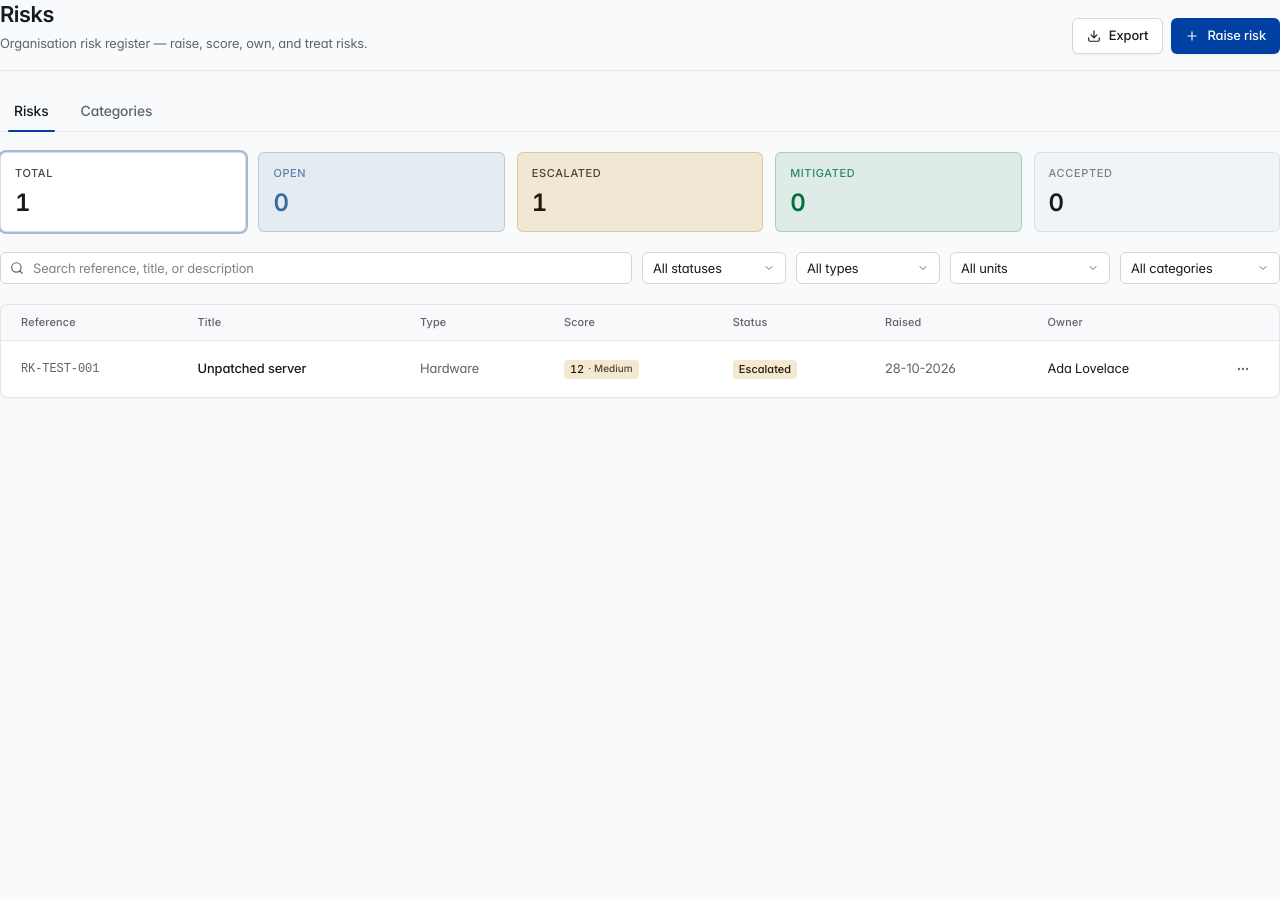
RisksListPage › shows lifecycle timeline and linked controls panels
Click the text "Unpatched server".
click(293, 369)  # box [182,341,404,397]
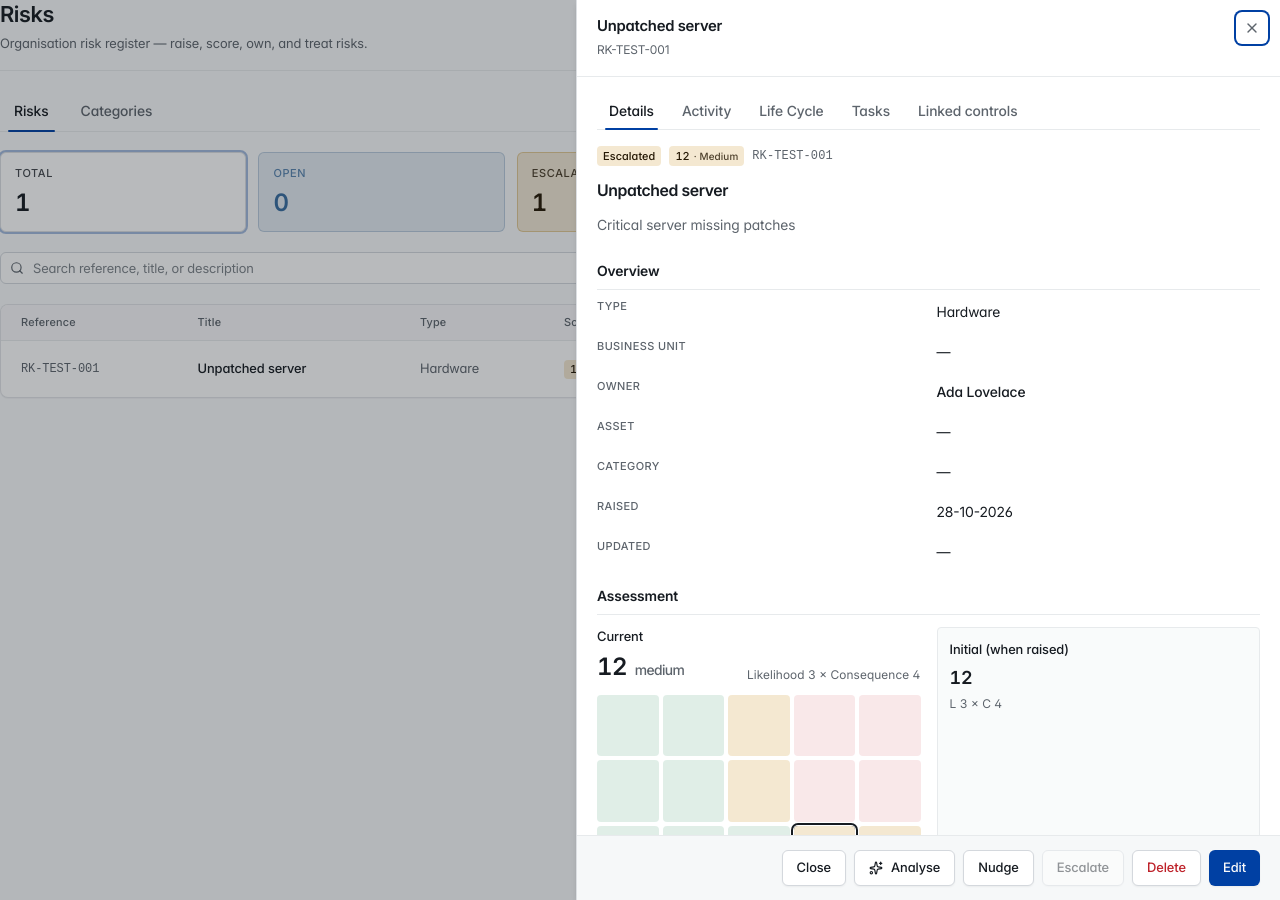
Click the tab "Life Cycle".
click(792, 111)  # box [747,93,836,129]
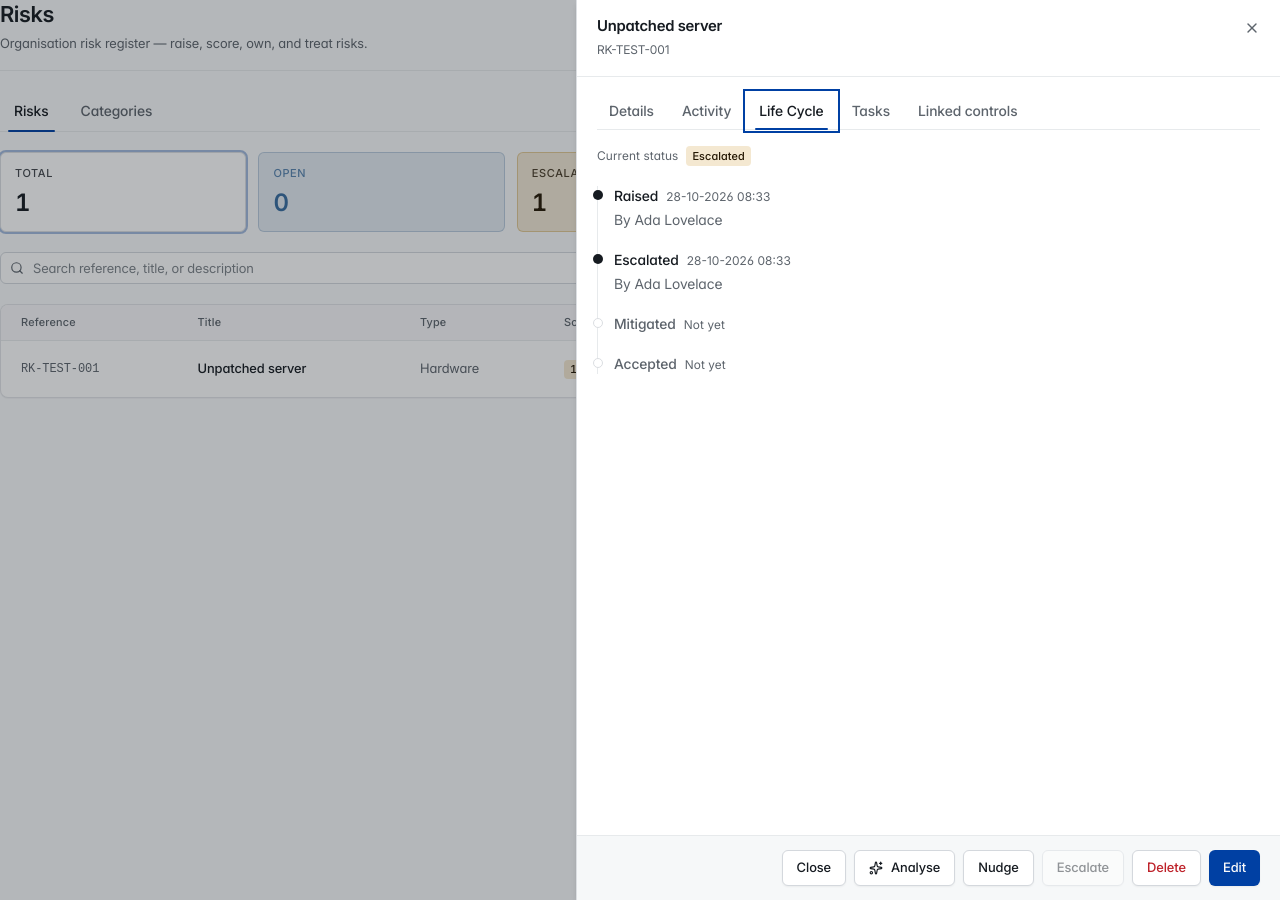
Expected: the 2nd text "Escalated" is shown, [532,166,601,180]
Expected: the text "Current status" is shown, [597,148,678,164]
Expected: the 1st text "Not yet" is shown, [684,317,725,333]
Click the tab "Linked controls".
click(968, 111)  # box [906,93,1029,129]
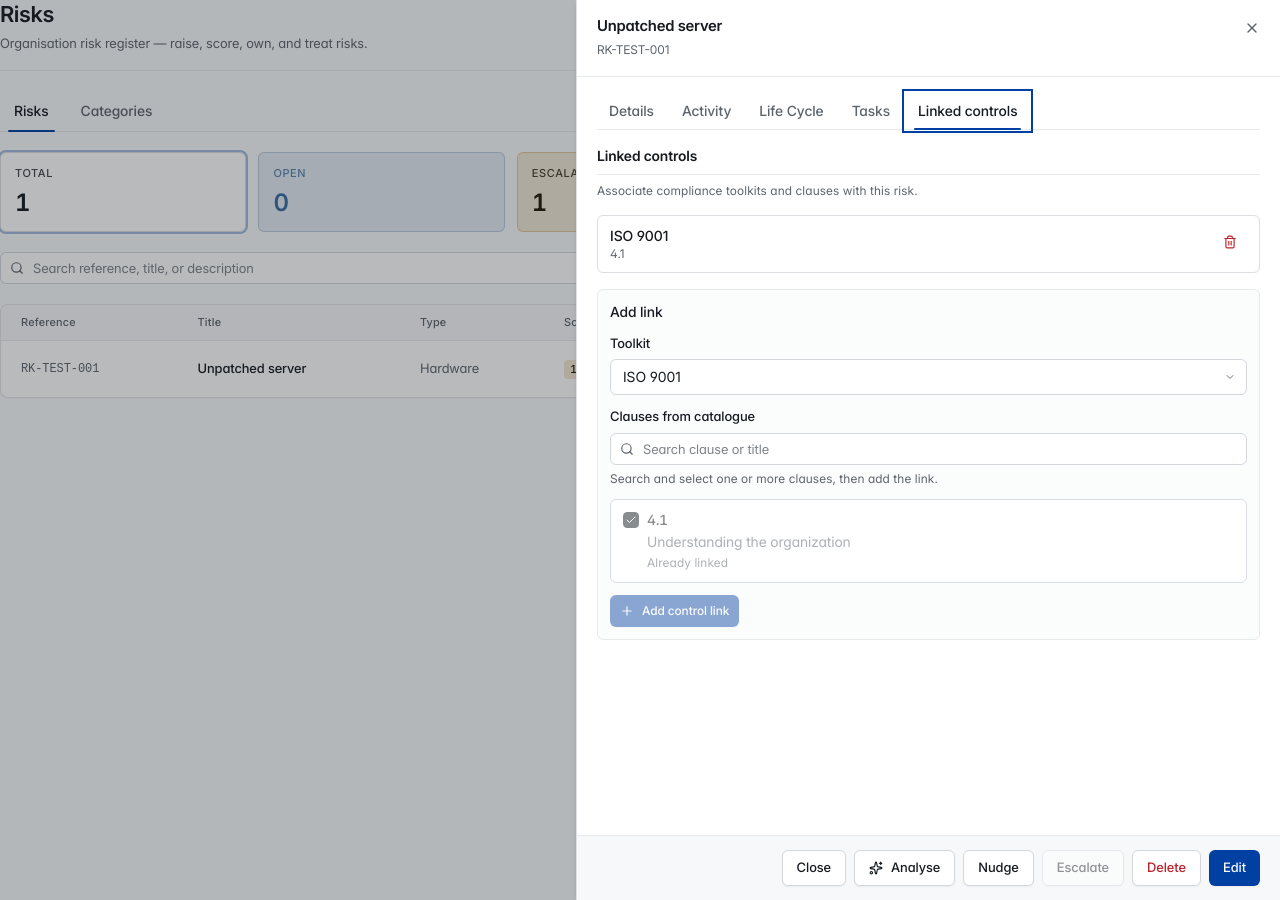
Expected: the link "ISO 9001" is shown, [610,227,668,244]
Expected: the text "4.1" below "ISO 9001" is shown, [610,246,625,261]
Expected: the text "Understanding the organization" is shown, [647,532,851,552]
Click the tab "Tasks".
click(871, 111)  # box [840,93,902,129]
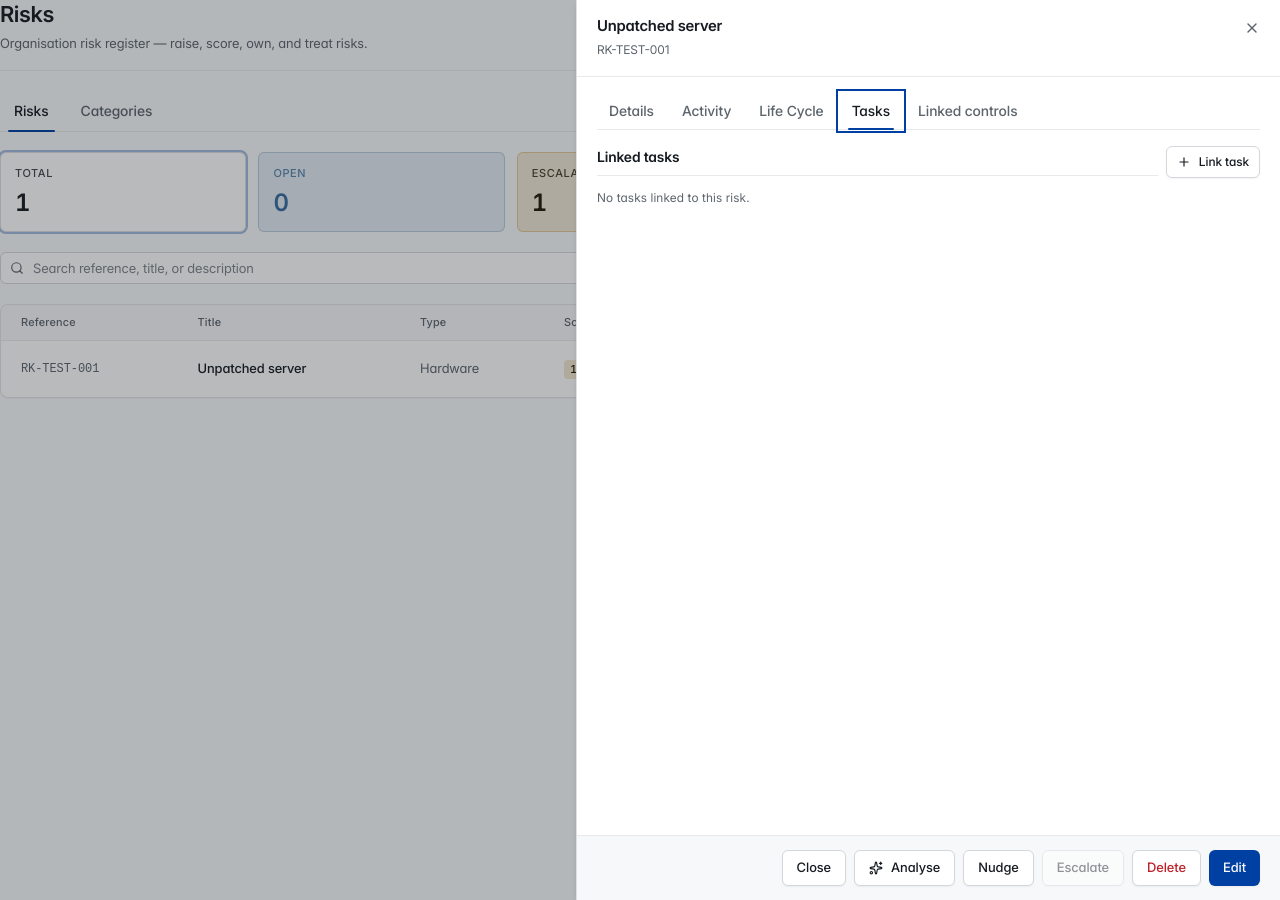
Expected: the text "No tasks linked to this risk." is shown, [597,190,750,205]
